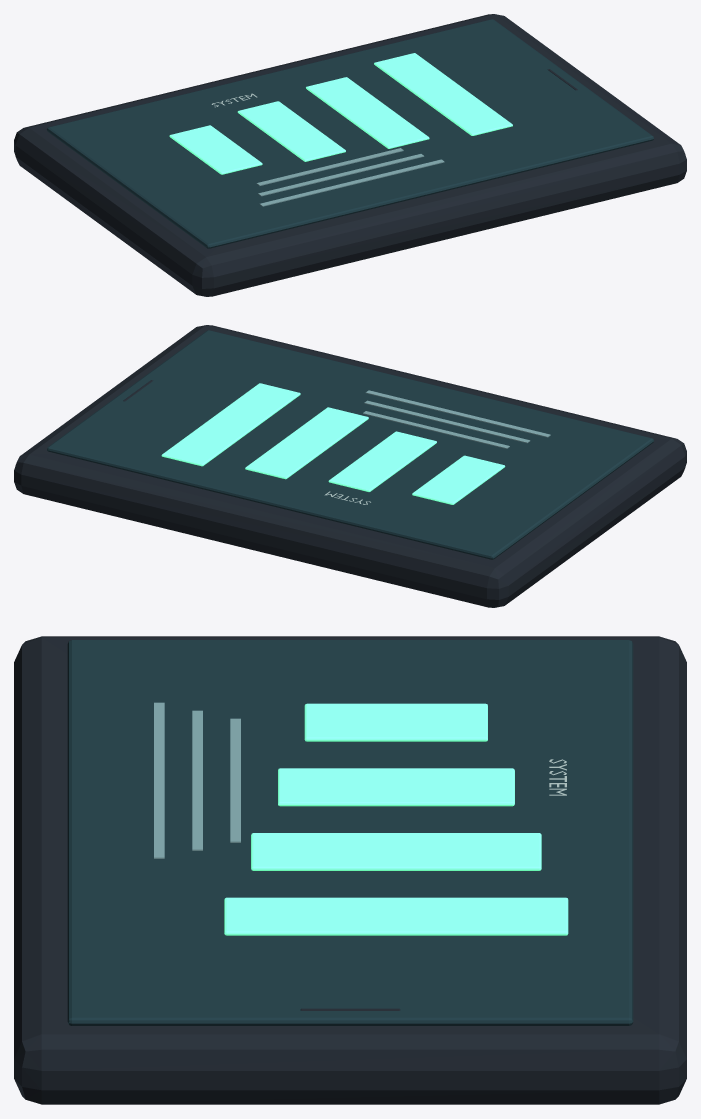
Rendered from tablet.glb.
3 views of the same model, one above another, from view 1: azimuth 30°, elevation 25°; view 2: azimuth 150°, elevation 25°; view 3: azimuth 270°, elevation 25° (orthographic). The views are drawn at different scales.
Parts seen in each view (by area): view 1: tablet; view 2: tablet; view 3: tablet.
Boxes of the visible parts, left/top/right/bottom form: tablet: left=14, top=14, right=686, bottom=296; tablet: left=14, top=325, right=686, bottom=607; tablet: left=14, top=636, right=686, bottom=1104.
Size of the model in its own units: 0.65 by 0.0585 by 0.44.
